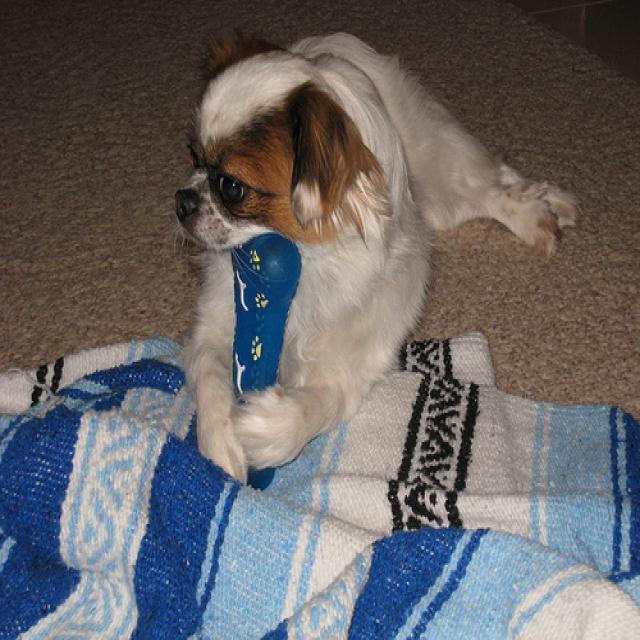dog-japanese_chin: (160, 20, 584, 492)
